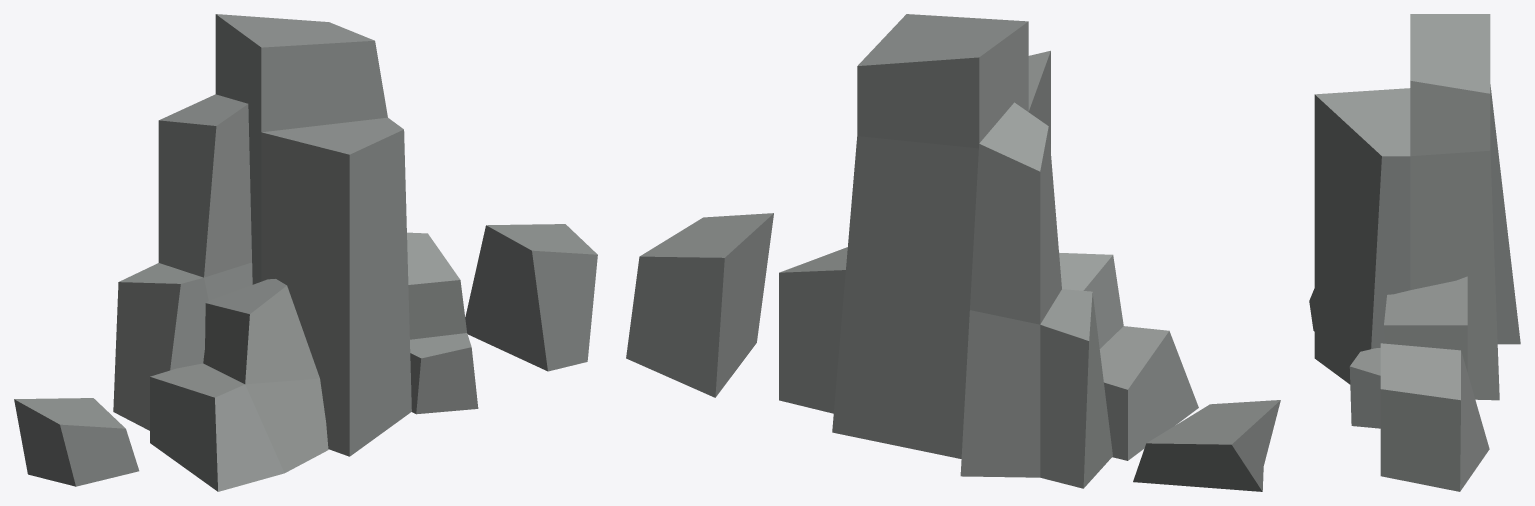
File: Stone1.fbx
3 renders of one model, left to right at view 1: azimuth 30°, elevation 25°; view 2: azimuth 150°, elevation 25°; view 3: azimuth 270°, elevation 25°, orthographic. The views are drawn at different scales.
Parts seen in each view (by area): view 1: Stone1, Stone2, Stone4, Stone6, Stone3, Stone5; view 2: Stone1, Stone2, Stone6, Stone4, Stone5, Stone3; view 3: Stone1, Stone6, Stone3, Stone2.
Part boxes in pixels (x1=…): Stone1: x1=215, y1=14, x2=411, y2=456; Stone2: x1=113, y1=94, x2=252, y2=430; Stone4: x1=150, y1=279, x2=328, y2=491; Stone6: x1=465, y1=224, x2=597, y2=371; Stone3: x1=407, y1=232, x2=478, y2=414; Stone5: x1=14, y1=398, x2=139, y2=486; Stone1: x1=832, y1=14, x2=1050, y2=458; Stone2: x1=960, y1=102, x2=1112, y2=488; Stone6: x1=626, y1=213, x2=773, y2=397; Stone4: x1=1059, y1=252, x2=1198, y2=460; Stone5: x1=1133, y1=400, x2=1280, y2=491; Stone3: x1=779, y1=247, x2=847, y2=413; Stone1: x1=1314, y1=14, x2=1499, y2=400; Stone6: x1=1380, y1=343, x2=1489, y2=491; Stone3: x1=1349, y1=276, x2=1467, y2=428; Stone2: x1=1490, y1=84, x2=1520, y2=344.
Bounding box in the file's own units: 504 × 321 × 184.
